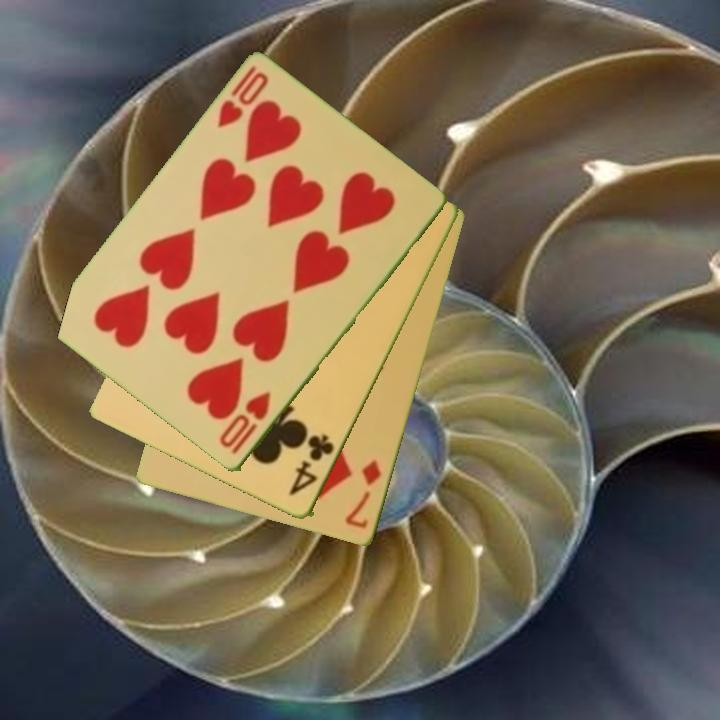10h: (213, 62, 272, 133), (216, 389, 274, 459)
4c: (285, 431, 338, 500)
7d: (342, 457, 385, 532)
